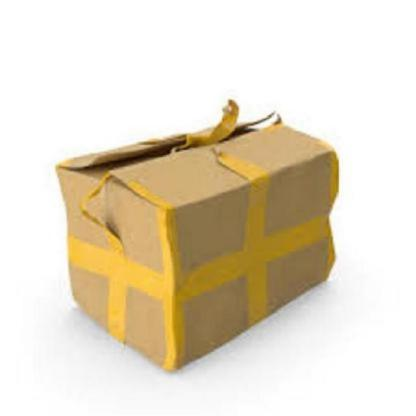box: (55, 100, 378, 371)
